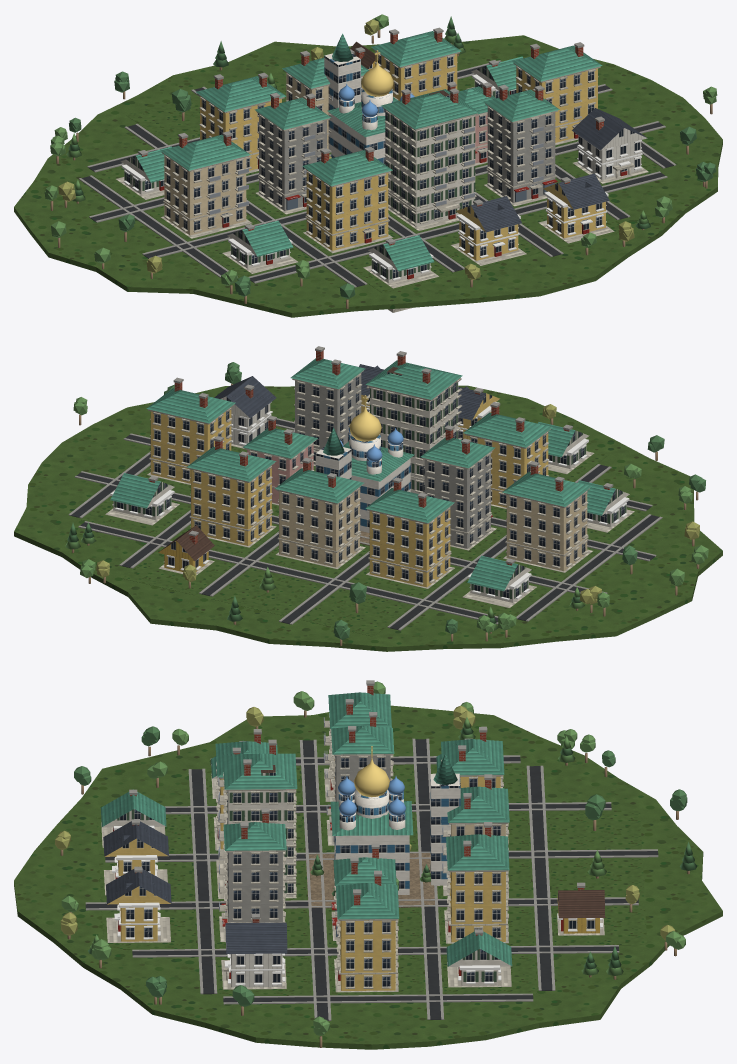
Rendered from city_east_large.gltf.
The picture shows the model from 3 angles, top to bottom: view 1: azimuth 30°, elevation 25°; view 2: azimuth 150°, elevation 25°; view 3: azimuth 270°, elevation 25°; orthographic projection. The views are drawn at different scales.
Parts seen in each view (by area): view 1: city_east_large; view 2: city_east_large; view 3: city_east_large.
Part boxes in pixels (left/top/right/bottom): city_east_large: left=14, top=14, right=722, bottom=317; city_east_large: left=14, top=346, right=722, bottom=651; city_east_large: left=14, top=680, right=722, bottom=1049.
Size of the model in its own units: 4.5 by 0.9754 by 3.9.
Materials: 27 (18 with a texture image).
